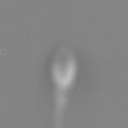normal: (40, 90, 86, 128)
